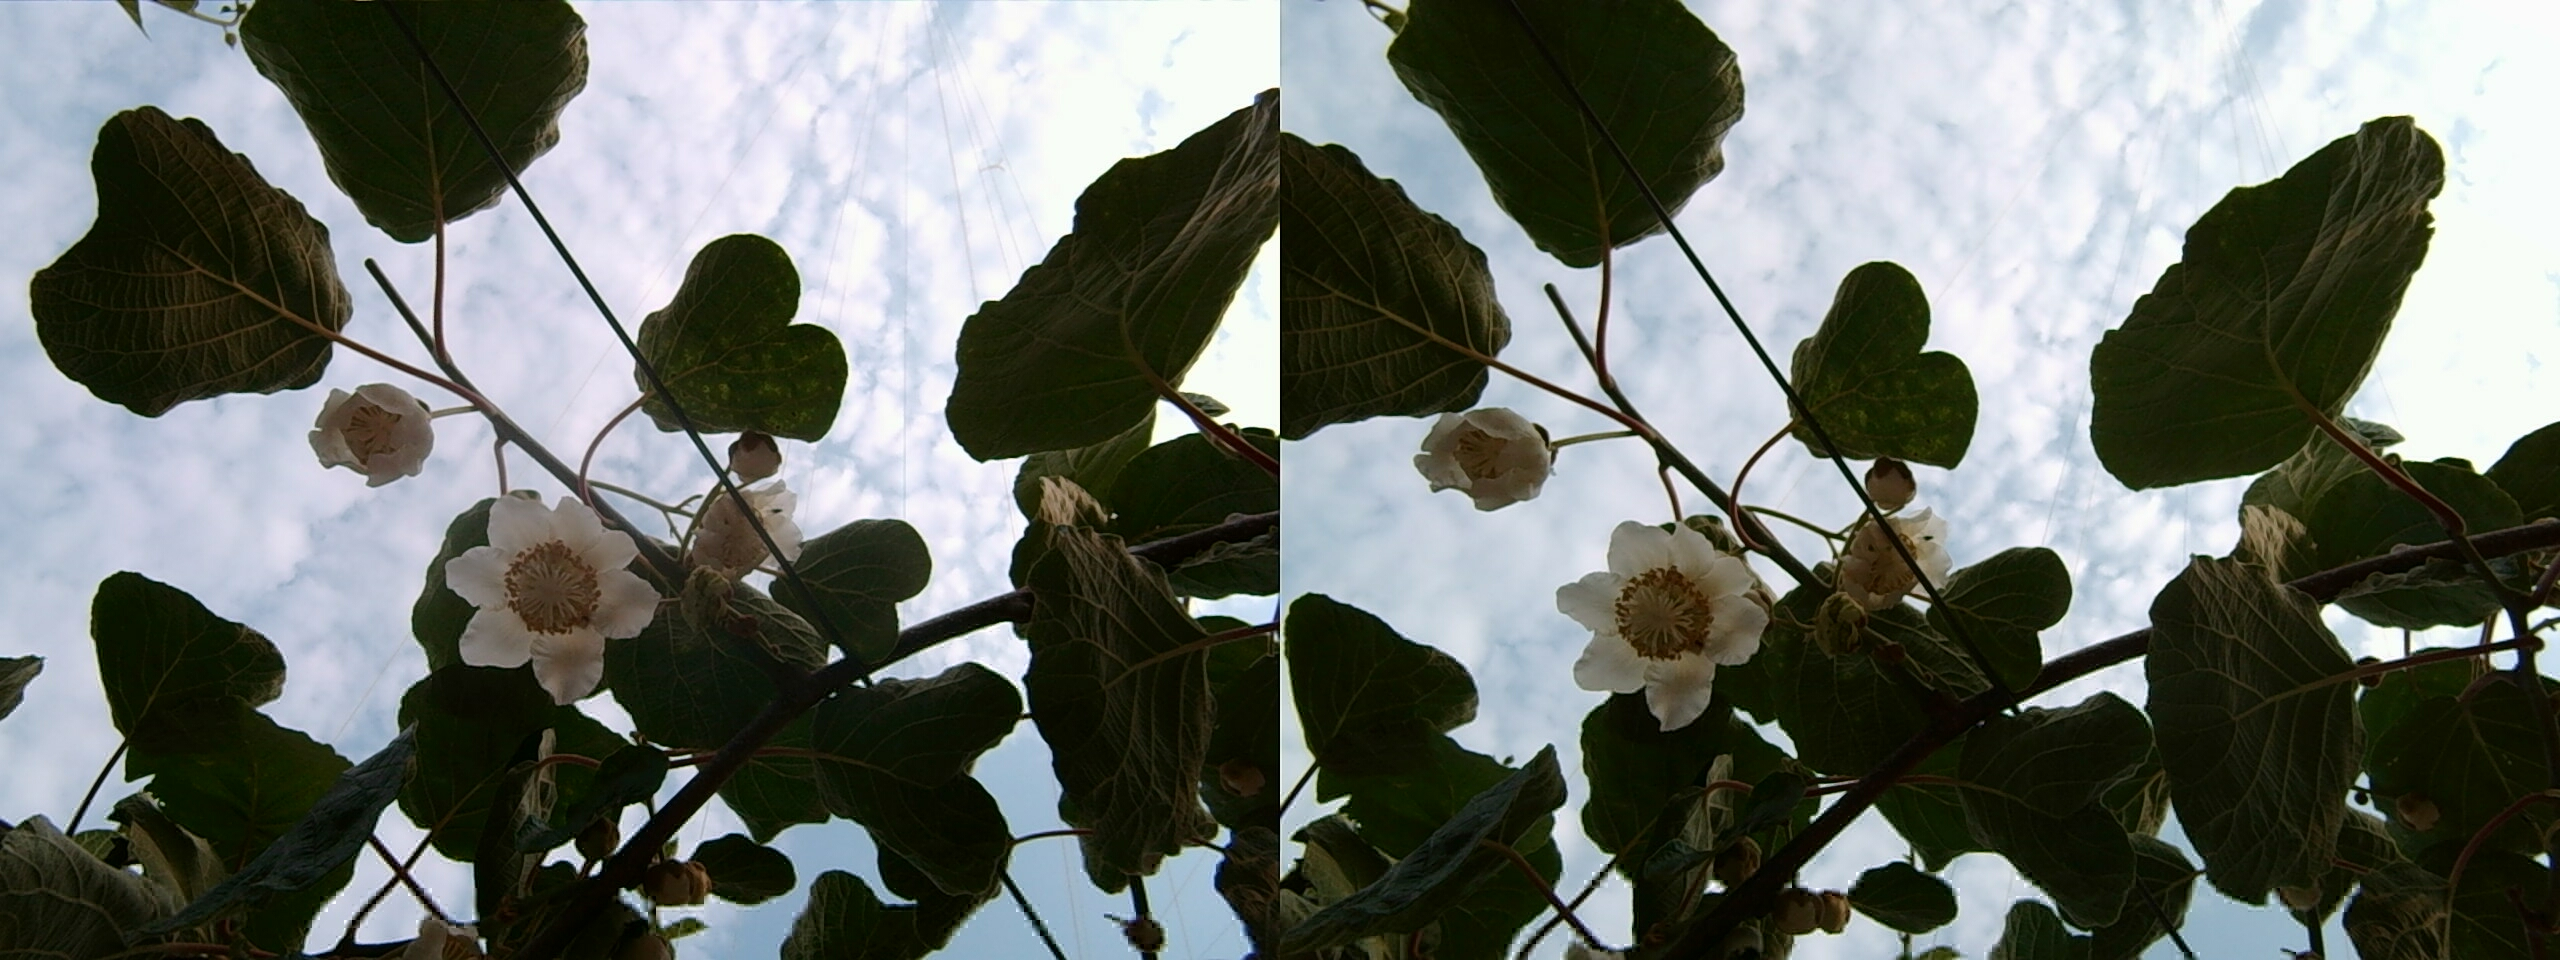flower: (424, 480, 661, 692), (1549, 504, 1773, 717), (1416, 403, 1549, 508), (310, 379, 431, 480)
